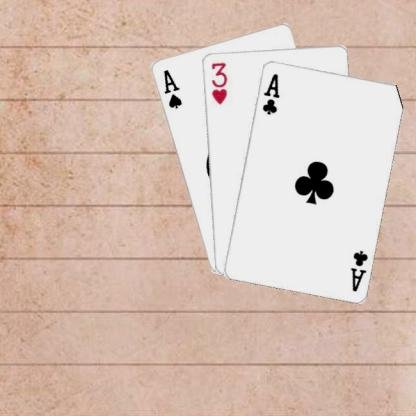3H: (209, 60, 228, 106)
AC: (260, 70, 280, 116), (348, 247, 368, 293)
AS: (161, 66, 183, 110)
